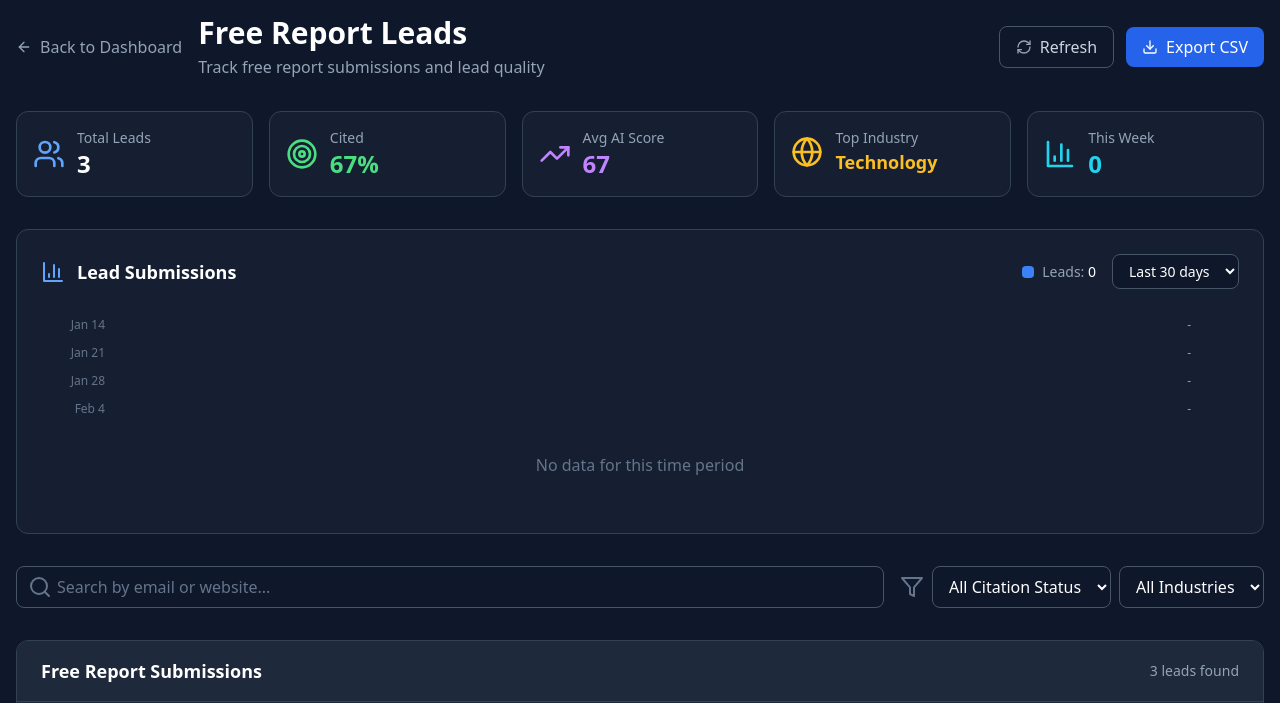
Scenario: LeadsDashboard Component › Clear Filters › should clear filters when clicking Clear filters
Type "nonexistent" into the field with placeholder "Search by email or website..." at (450,587), box [16, 566, 884, 608]
(page scrolled)
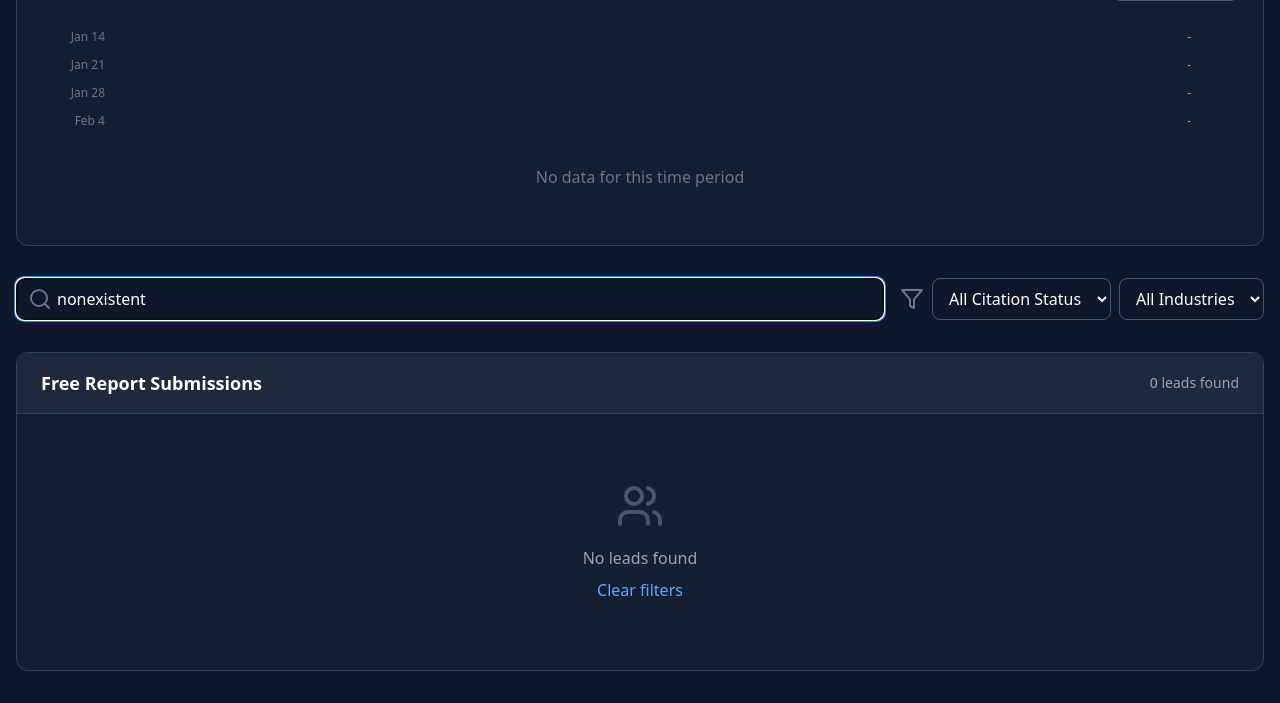
Now the text "No leads found" is shown, box [583, 546, 697, 570]
Click the button "Clear filters" at (640,590), box [597, 578, 683, 602]
(page scrolled)
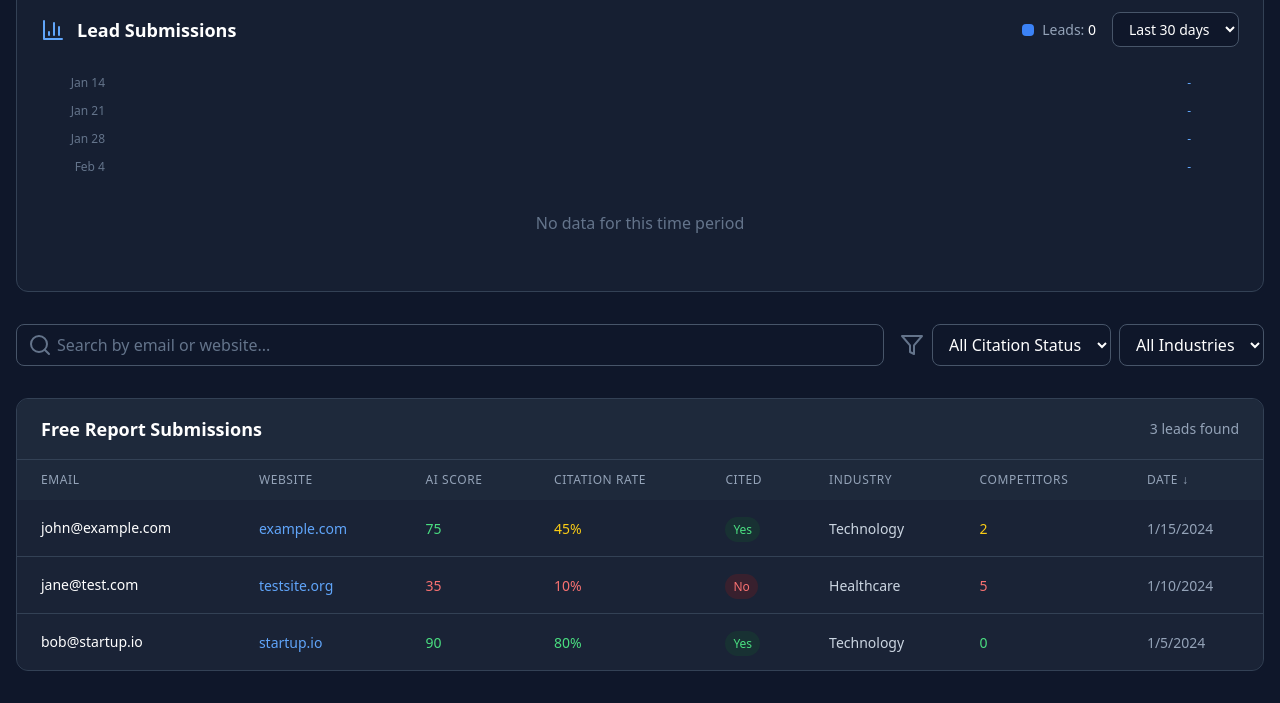
Now the text "john@example.com" is shown, box [41, 518, 171, 537]
Now the text "3 leads found" is shown, box [1150, 419, 1239, 439]
